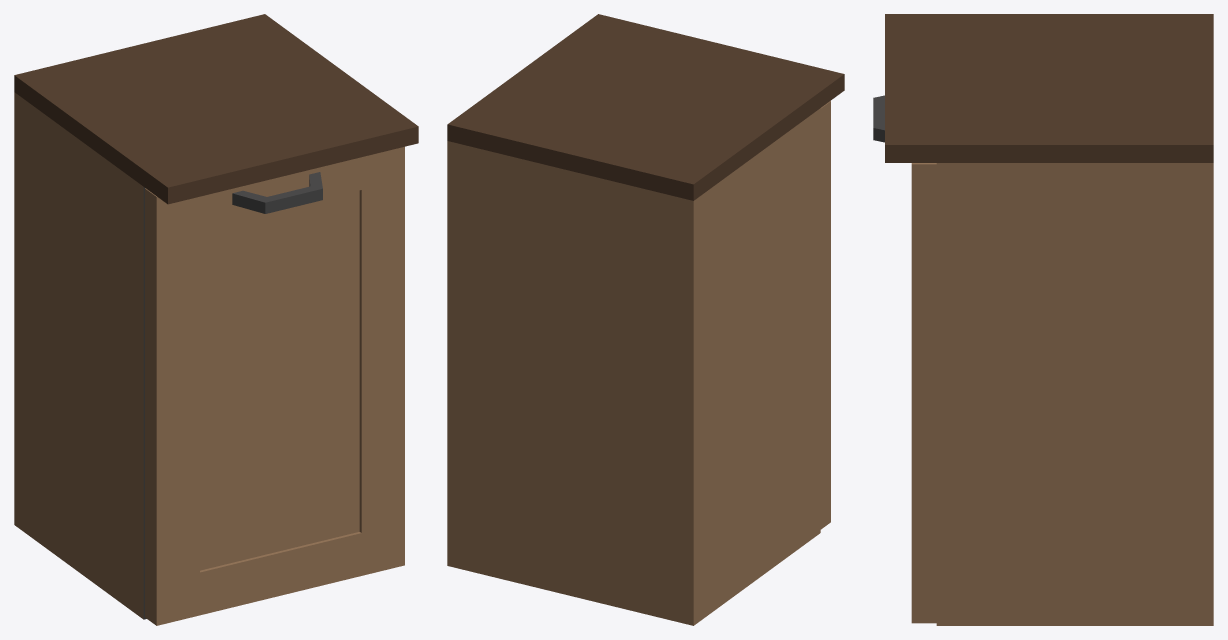
File: Kitchen_Cabinet_1B.fbx
The picture shows the model from 3 angles, left to right: view 1: azimuth 30°, elevation 25°; view 2: azimuth 150°, elevation 25°; view 3: azimuth 270°, elevation 25°; orthographic projection. The views are drawn at different scales.
Parts seen in each view (by area): view 1: polySurface2168; view 2: polySurface2168; view 3: polySurface2168.
Part boxes in pixels (x1,y1,x2,y2): polySurface2168: (14, 14, 418, 625); polySurface2168: (447, 14, 844, 625); polySurface2168: (873, 14, 1213, 625).
Size of the model in its own units: 0.7792 by 1.34 by 0.8565.
1 material, 1 textured.
